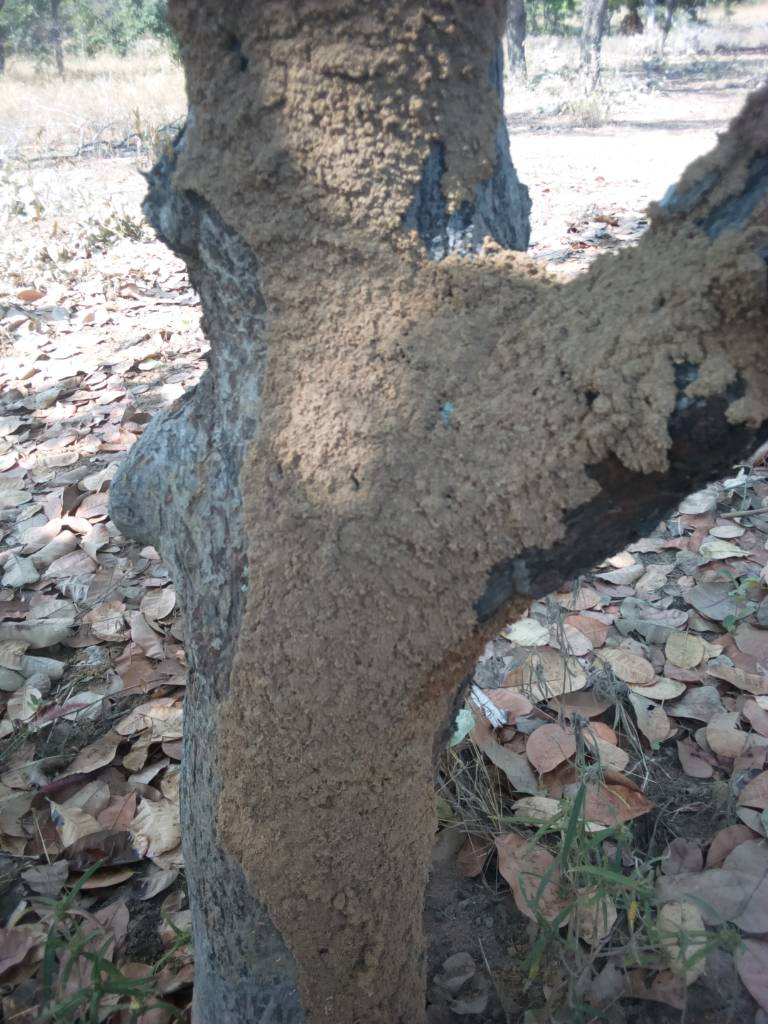Virose: (107, 1, 754, 989)
